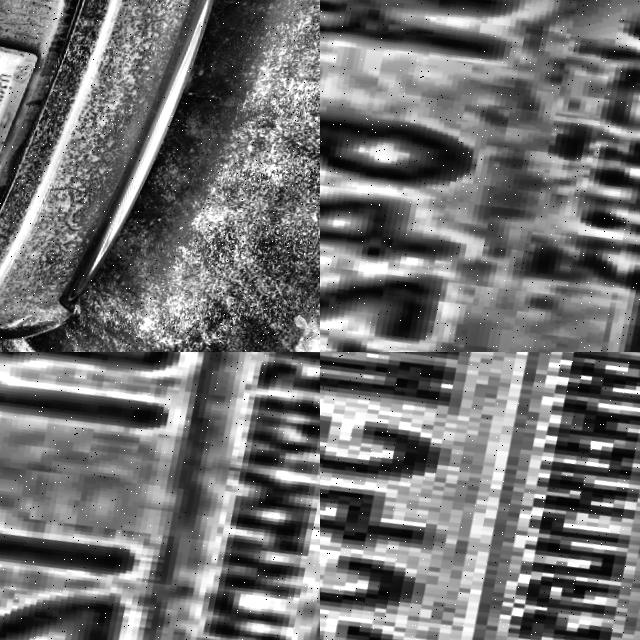license-plate: (320, 0, 640, 352), (0, 352, 320, 640), (320, 352, 640, 640), (0, 24, 44, 201)
